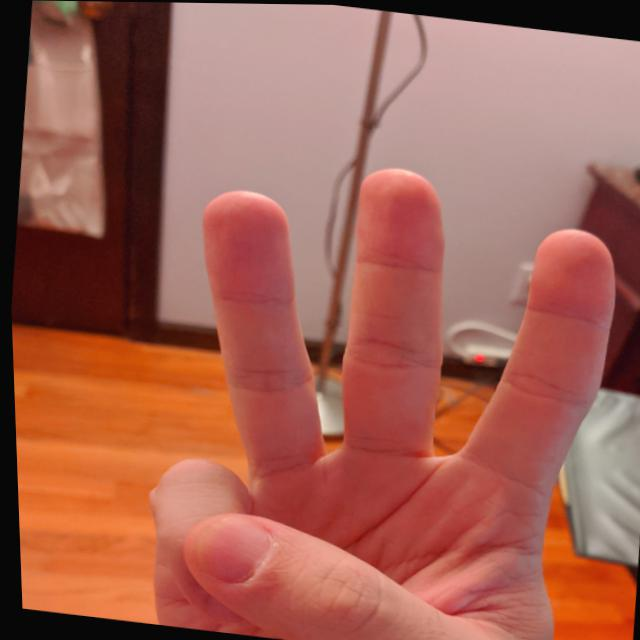W: (114, 134, 639, 639)
